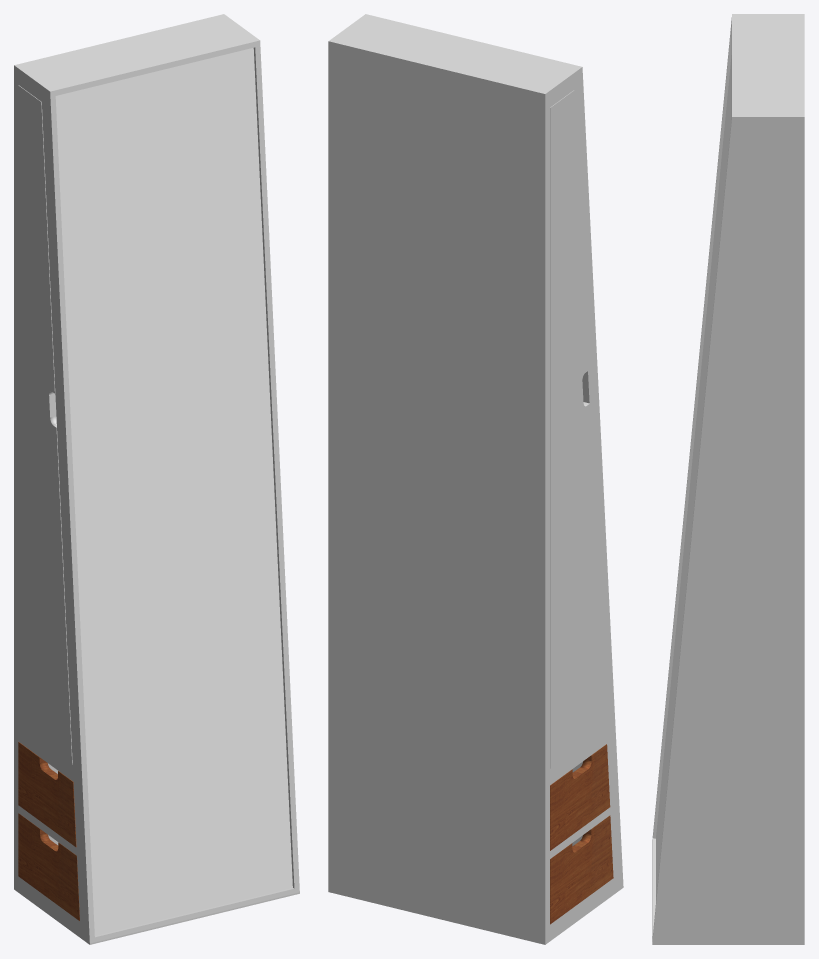
Rendered from laura.glb.
3 renders of one model, left to right at view 1: azimuth 30°, elevation 25°; view 2: azimuth 150°, elevation 25°; view 3: azimuth 270°, elevation 25°, orthographic. The views are drawn at different scales.
Parts seen in each view (by area): view 1: G-__556374, G-__555690.001, G-__556383, G-OuterShell.001, G-__555690, G-__555672; view 2: G-OuterShell.001, G-__555690.001, G-__556383, G-__555690, G-__555672; view 3: G-OuterShell.001, G-__556383, G-__556374.
Part boxes in pixels (left/top/right/bottom): G-__556374: left=55, top=48, right=292, bottom=935; G-__555690.001: left=18, top=85, right=72, bottom=764; G-__556383: left=41, top=34, right=299, bottom=944; G-OuterShell.001: left=14, top=14, right=250, bottom=937; G-__555690: left=18, top=813, right=79, bottom=920; G-__555672: left=18, top=742, right=76, bottom=847; G-OuterShell.001: left=328, top=21, right=613, bottom=944; G-__555690.001: left=550, top=90, right=606, bottom=768; G-__556383: left=356, top=14, right=623, bottom=894; G-__555690: left=550, top=815, right=613, bottom=924; G-__555672: left=550, top=744, right=610, bottom=850; G-OuterShell.001: left=670, top=14, right=804, bottom=944; G-__556383: left=652, top=14, right=750, bottom=944; G-__556374: left=656, top=55, right=731, bottom=901.
Bounding box in the file's own units: 0.4009 × 1.5 × 0.25.
Materials: 6 (1 with a texture image).
